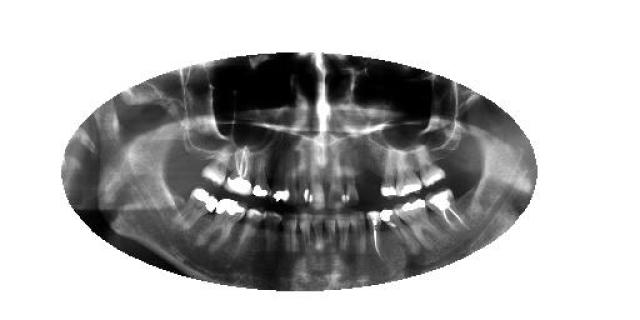Fillings: (394, 196, 448, 252), (196, 196, 246, 252), (380, 208, 420, 254), (175, 188, 215, 230), (395, 148, 423, 198), (270, 160, 290, 205), (251, 158, 271, 200), (380, 145, 396, 197)
Implant: (425, 186, 474, 236), (228, 140, 254, 194), (365, 209, 385, 269)
